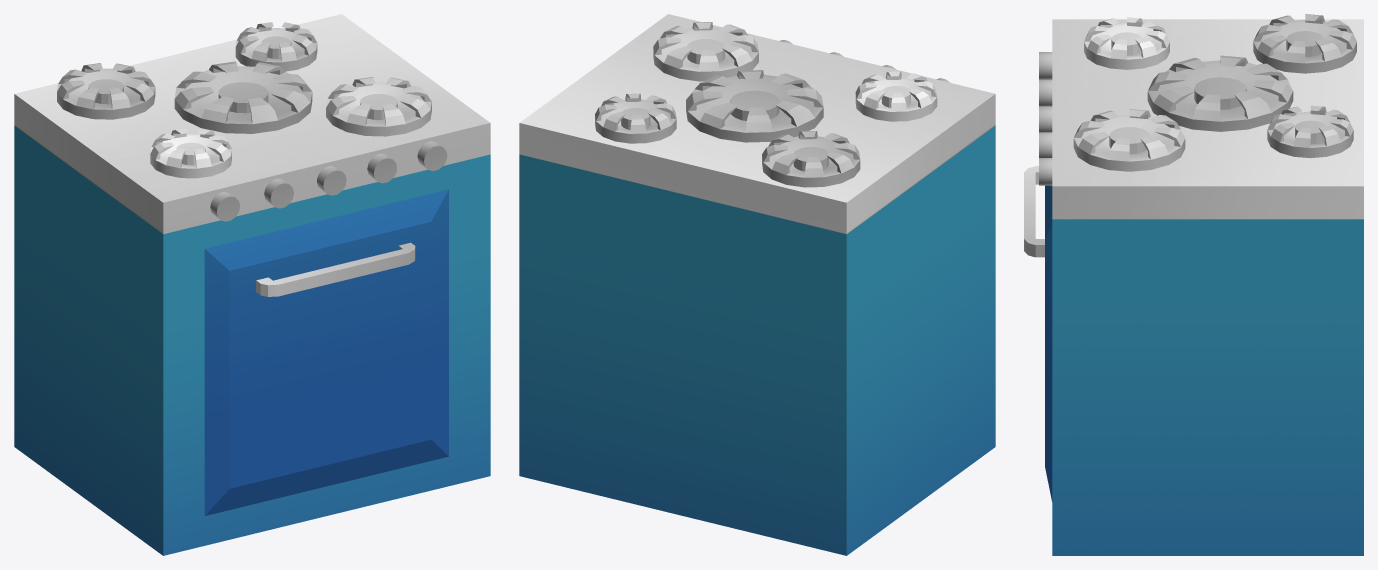
Rendered from Oven.FBX.
3 views of the same model, side by side, from view 1: azimuth 30°, elevation 25°; view 2: azimuth 150°, elevation 25°; view 3: azimuth 270°, elevation 25° (orthographic). The views are drawn at different scales.
Visible parts, largest first — view 1: Cylinder007; view 2: Cylinder007; view 3: Cylinder007.
Part boxes in pixels (bbox=[...]): Cylinder007: bbox=[14, 14, 490, 555]; Cylinder007: bbox=[519, 14, 995, 555]; Cylinder007: bbox=[1024, 14, 1363, 555].
Bounding box in the file's own units: 81.02 × 88.23 × 69.64.
Materials: 1 (1 with a texture image).
